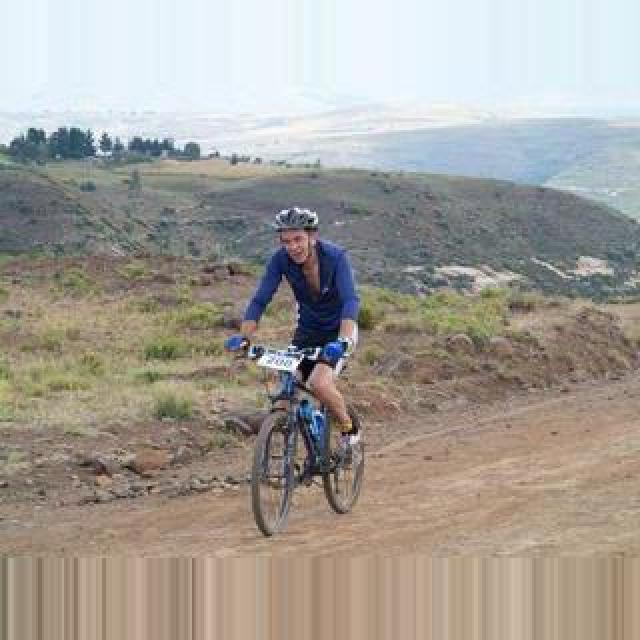MC-Bike: (234, 208, 362, 462)
Person: (238, 342, 366, 538)
